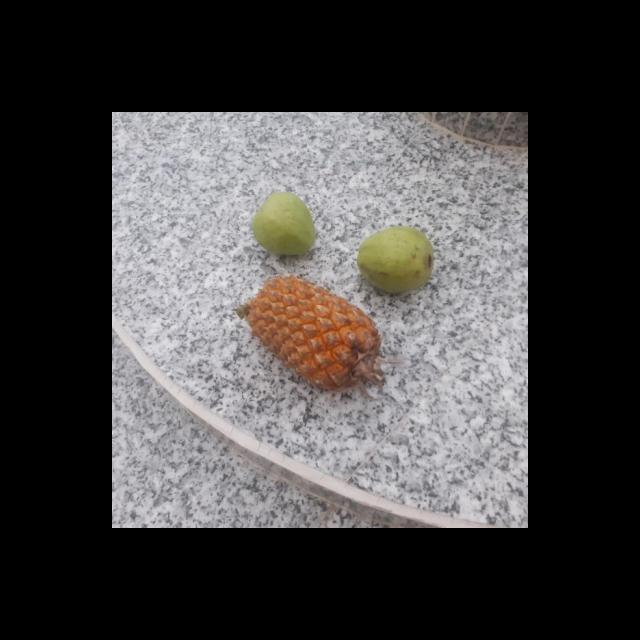guava: (354, 226, 434, 292), (248, 190, 318, 258)
pineapple: (232, 274, 384, 389)
